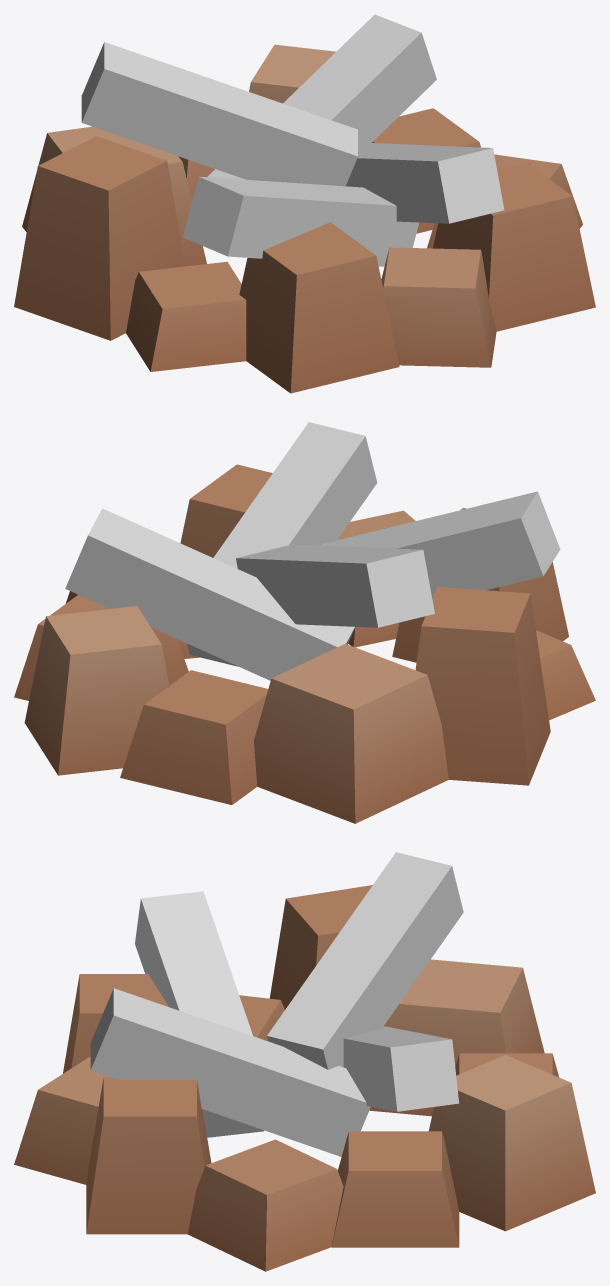
The model's file is KS_campfire-pit.glb.
The picture shows the model from 3 angles, top to bottom: view 1: azimuth 30°, elevation 25°; view 2: azimuth 150°, elevation 25°; view 3: azimuth 270°, elevation 25°; orthographic projection. The views are drawn at different scales.
Parts seen in each view (by area): view 1: campfire-pit, wood; view 2: campfire-pit, wood; view 3: campfire-pit, wood.
Part boxes in pixels (x1,y1,x2,y2): campfire-pit: [14, 44, 595, 393]; wood: [81, 14, 504, 266]; campfire-pit: [14, 464, 595, 823]; wood: [65, 422, 560, 680]; campfire-pit: [14, 885, 595, 1271]; wood: [90, 852, 463, 1156].
Bounding box in the file's own units: 0.2778 × 0.1091 × 0.2692.
